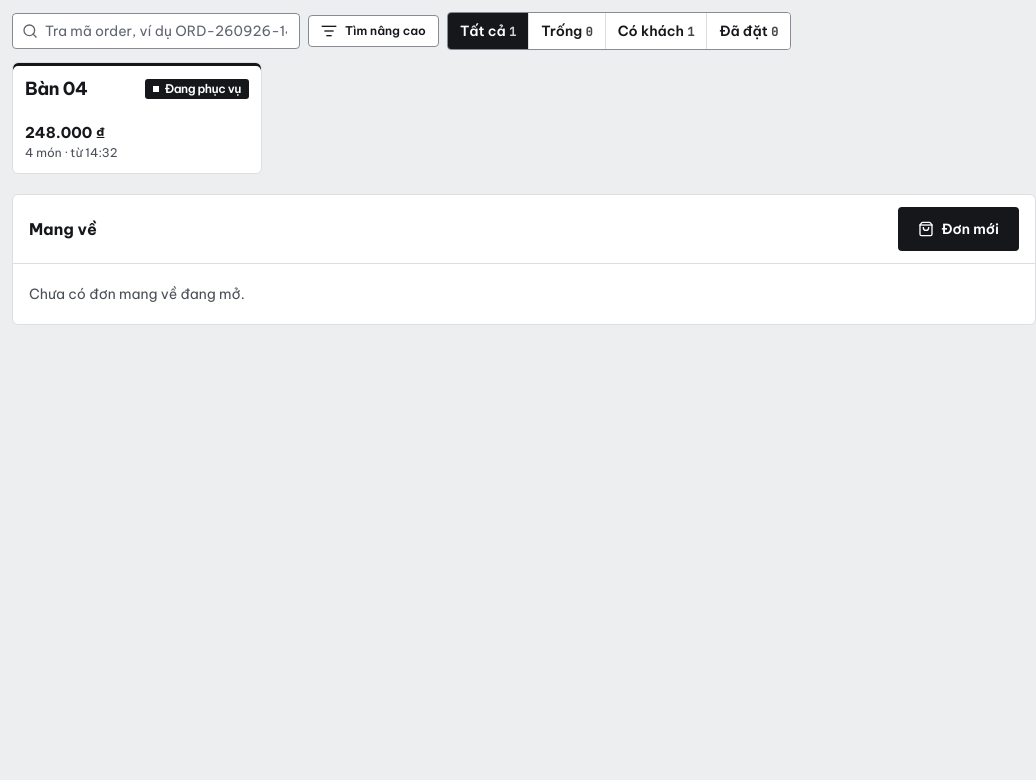
Test: FloorStep › releases the displayed order and refreshes physical occupancy
The image size is (1036, 780).
Click the button "Bàn 04 Đang phục vụ 248.000 ₫ 4 món · từ 14:32" at (137, 118), box 12,62 -> 262,174
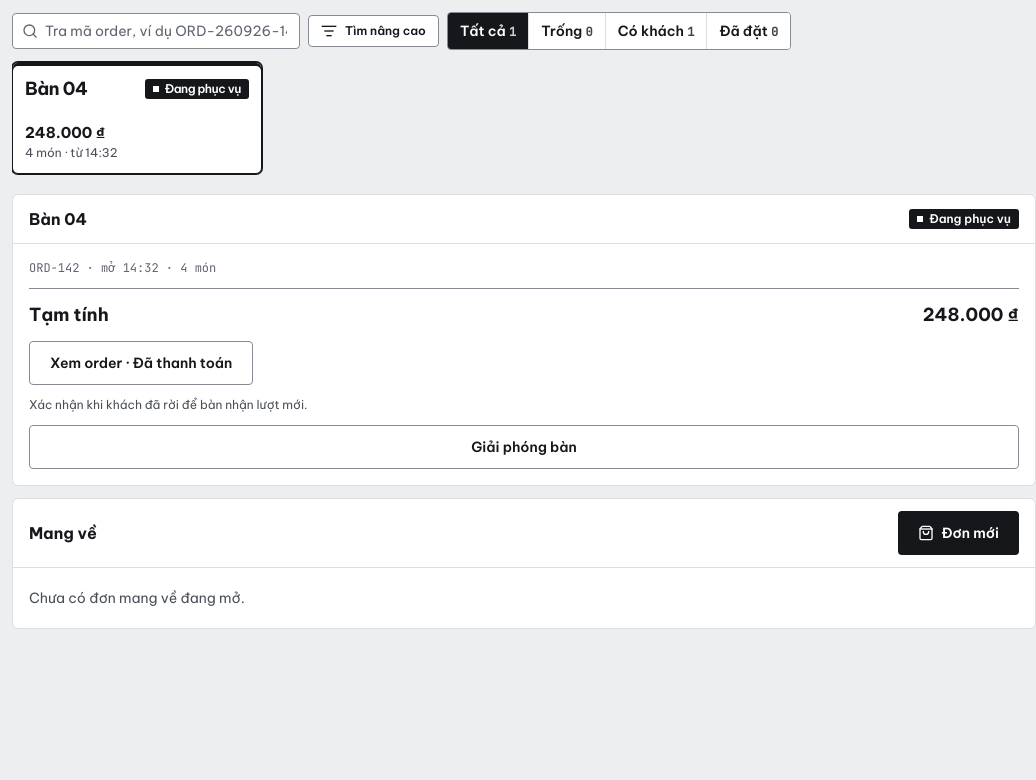
Click the button "Giải phóng bàn" at (524, 447), box 29,425 -> 1019,469
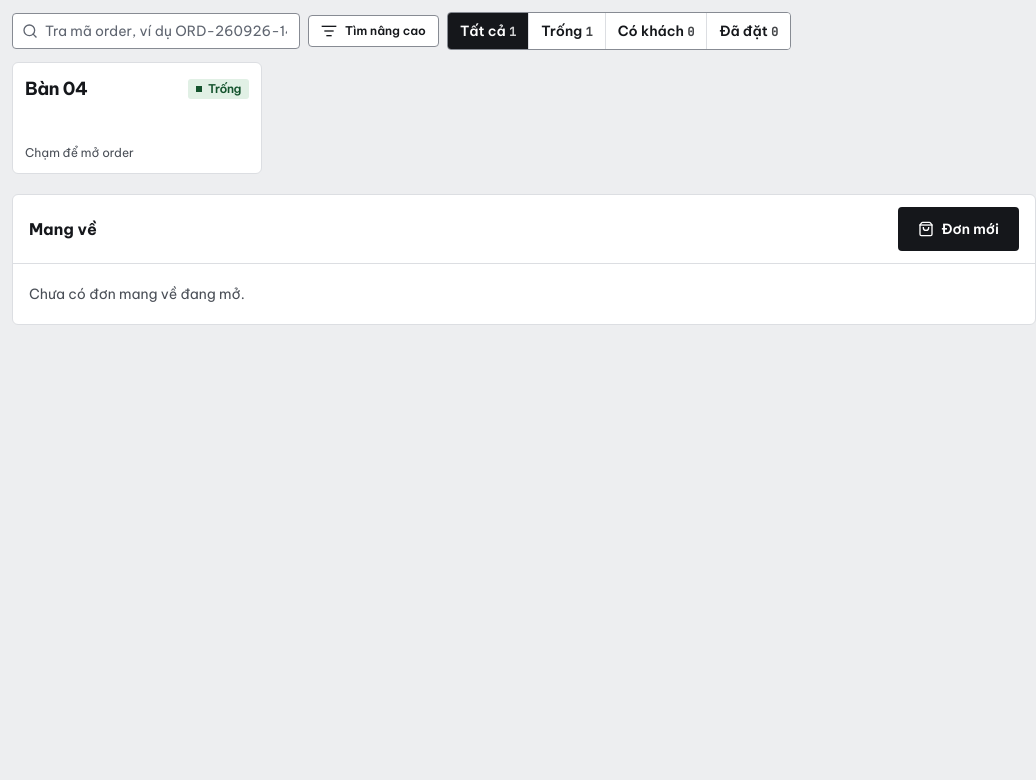
Check: the button "Trống 1" is shown, box 528,13 -> 605,49
